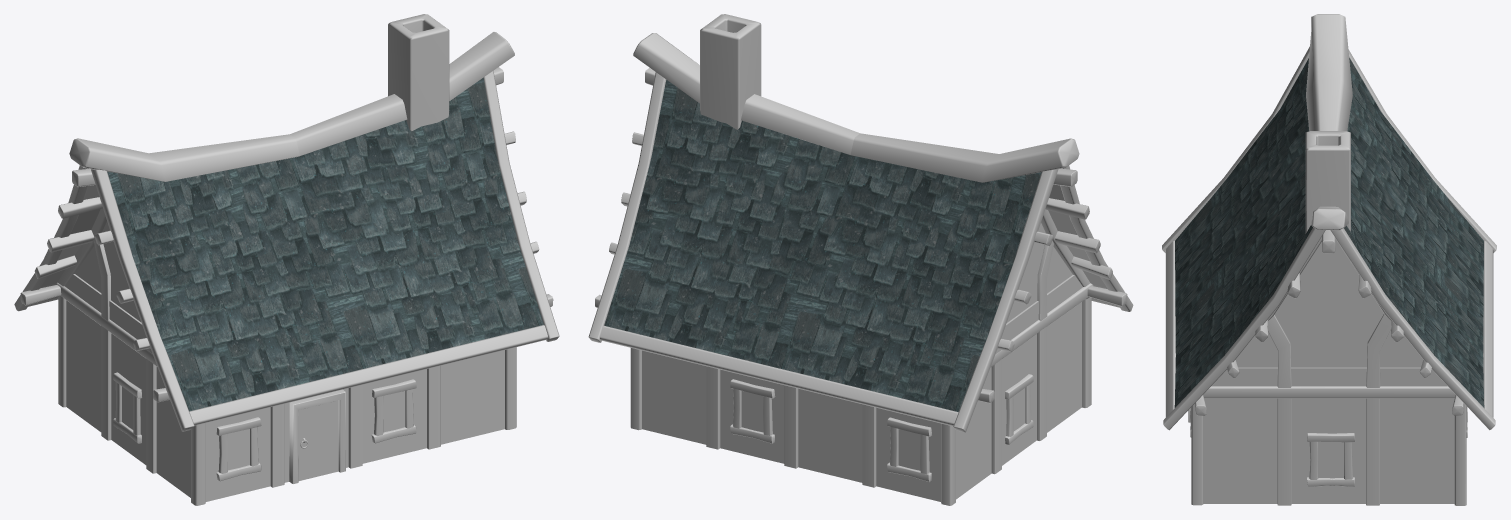
The model's file is house18.fbx.
3 views of the same model, side by side, from view 1: azimuth 30°, elevation 25°; view 2: azimuth 150°, elevation 25°; view 3: azimuth 270°, elevation 25° (orthographic).
Parts seen in each view (by area): view 1: house18; view 2: house18; view 3: house18.
Boxes of the visible parts, x1,y1,x2,y2 form: house18: [14, 14, 559, 505]; house18: [588, 14, 1133, 505]; house18: [1162, 14, 1496, 505].
Size of the model in its own units: 1318 by 1038 by 896.
